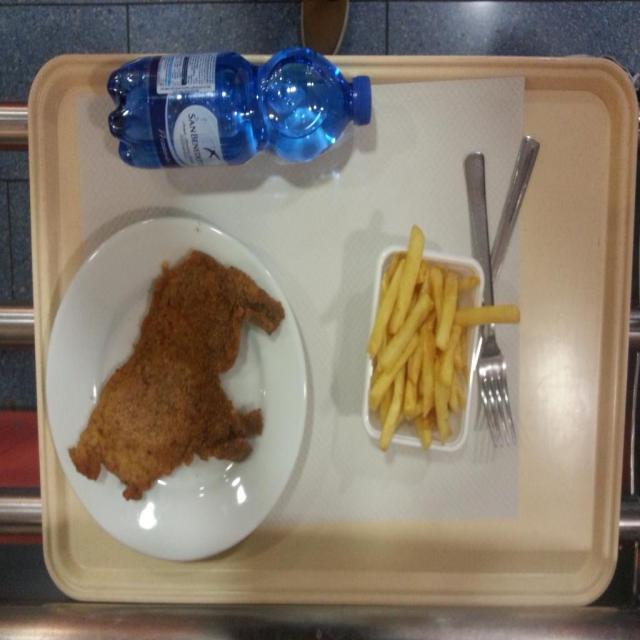plate: (45, 216, 308, 564), (362, 237, 482, 455)
